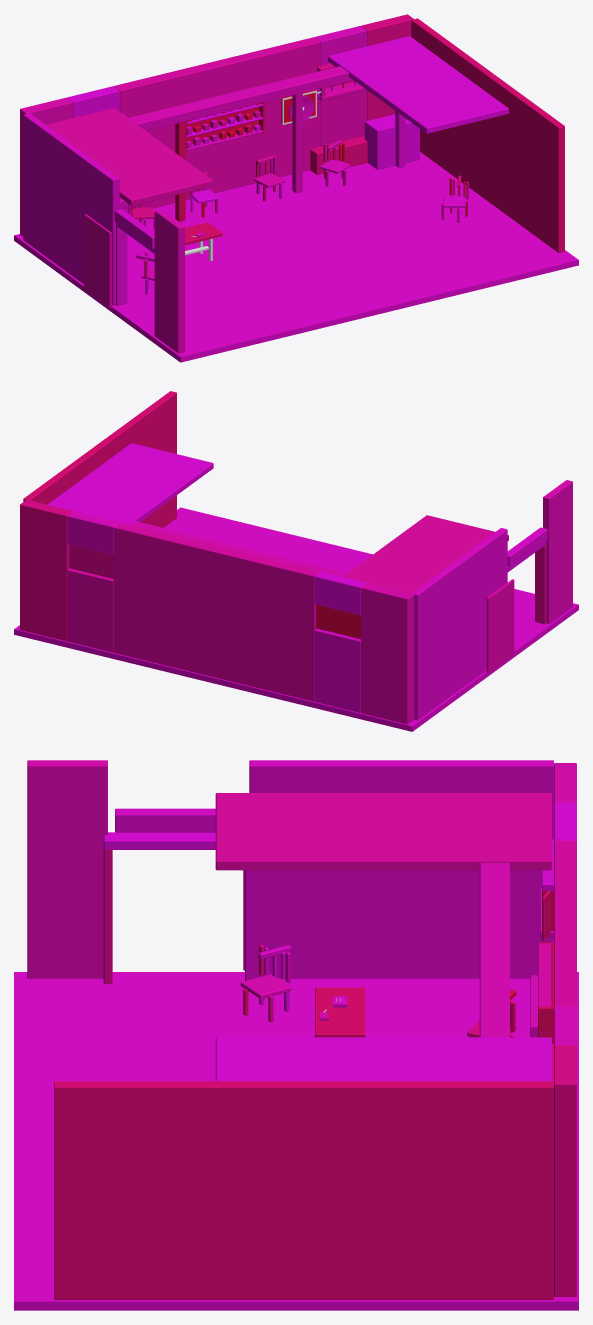
Rendered from court_chapter_02.glb.
The picture shows the model from 3 angles, top to bottom: view 1: azimuth 30°, elevation 25°; view 2: azimuth 150°, elevation 25°; view 3: azimuth 270°, elevation 25°; orthographic projection. The views are drawn at different scales.
Visible parts, largest first — view 1: Floor, WallRight, WallBackPier_1, WallLeftRear, CanopyPorch_4.3, CanopyPorch_-4.3, WallLeftFront, PorticoEntablature, OpenDoorLeaf, WallBackLow_1, RecordAlcove, TabletPigeonholes (+18 smaller); view 2: WallBackPier_1, WallLeftRear, Floor, CanopyPorch_4.3, WallBackPier_0, WallBackPier_end, CanopyPorch_-4.3, WallRight, WallLeftFront, WallBackLow_1, WallBackLow_0, OpenDoorLeaf (+7 smaller); view 3: WallRight, Floor, WallLeftRear, CanopyPorch_-4.3, WallLeftFront, CanopyPorch_4.3, WallBackPier_end, PorticoEntablature, WallBackPier_1, DoorLintel, Desk_0, Chair_officials_2 (+7 smaller).
Boxes of the visible parts, <box> form: Floor: <box>14,152,578,362</box>; WallRight: <box>411,18,564,252</box>; WallBackPier_1: <box>113,37,320,208</box>; WallLeftRear: <box>23,113,119,305</box>; CanopyPorch_4.3: <box>328,36,508,133</box>; CanopyPorch_-4.3: <box>46,108,213,205</box>; WallLeftFront: <box>154,209,184,353</box>; PorticoEntablature: <box>128,66,353,130</box>; OpenDoorLeaf: <box>84,214,111,307</box>; WallBackLow_1: <box>320,90,366,146</box>; RecordAlcove: <box>364,114,419,169</box>; TabletPigeonholes: <box>185,102,264,152</box>; WallBackPier_1: <box>113,522,320,701</box>; WallLeftRear: <box>411,528,507,720</box>; Floor: <box>14,507,578,731</box>; CanopyPorch_4.3: <box>47,443,213,524</box>; WallBackPier_0: <box>361,583,414,724</box>; WallBackPier_end: <box>20,500,73,641</box>; CanopyPorch_-4.3: <box>343,515,508,593</box>; WallRight: <box>23,391,176,527</box>; WallLeftFront: <box>543,480,572,623</box>; WallBackLow_1: <box>67,568,113,652</box>; WallBackLow_0: <box>314,628,360,712</box>; OpenDoorLeaf: <box>486,579,514,673</box>; WallRight: <box>54,1081,553,1299</box>; Floor: <box>14,972,578,1310</box>; WallLeftRear: <box>249,760,553,978</box>; CanopyPorch_-4.3: <box>215,793,551,870</box>; WallLeftFront: <box>27,760,107,978</box>; CanopyPorch_4.3: <box>215,1037,551,1081</box>; WallBackPier_end: <box>554,1045,576,1296</box>; PorticoEntablature: <box>479,862,509,1037</box>; WallBackPier_1: <box>554,840,576,1007</box>; DoorLintel: <box>115,808,215,832</box>; Desk_0: <box>315,987,365,1037</box>; Chair_officials_2: <box>240,945,291,1022</box>.
Bounding box in the file's own units: 11.7 × 3.65 × 8.4.
